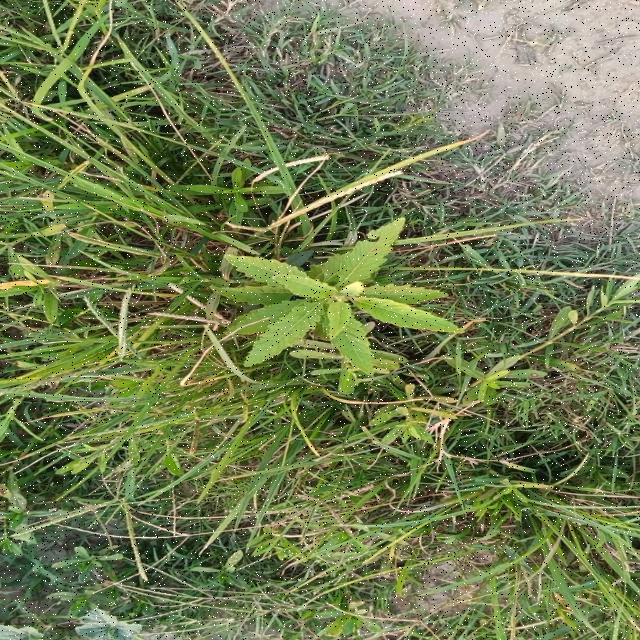weed: (211, 218, 461, 375)
